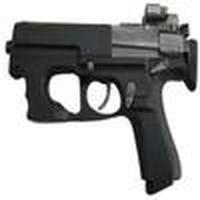gun: (5, 12, 196, 193)
